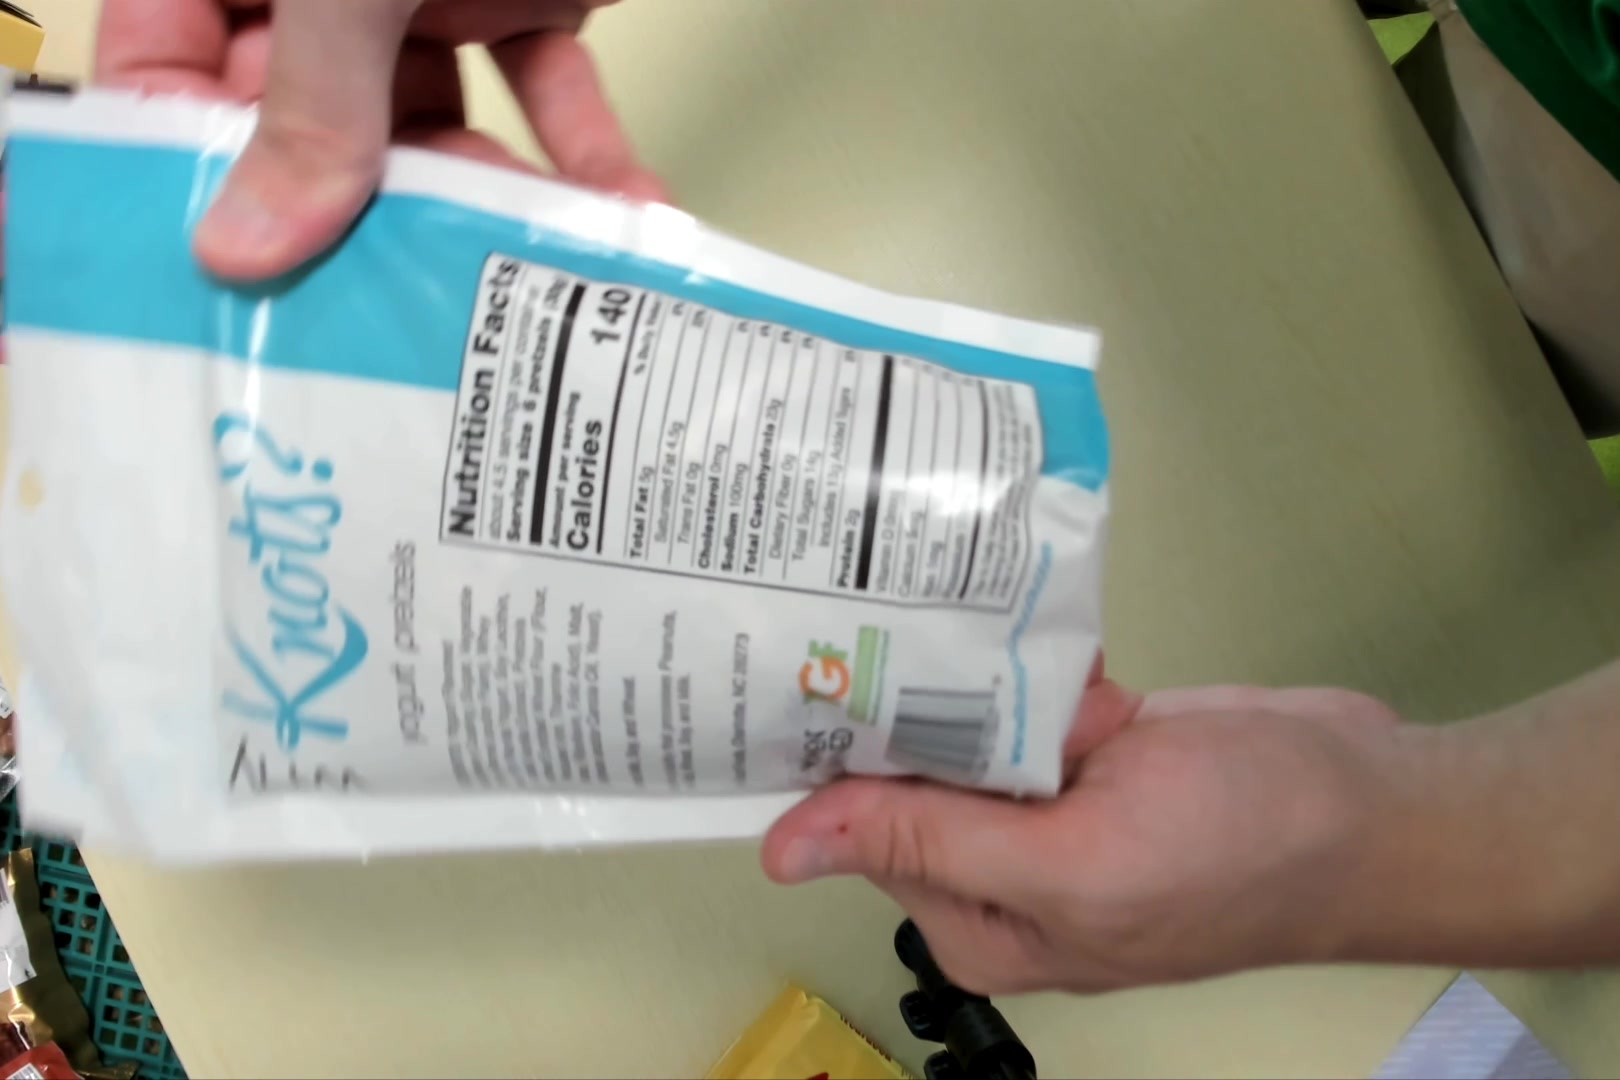SweetsChocolatesOthers_100-199g_NonHalal_NonHealthy: (2, 107, 1140, 846)
